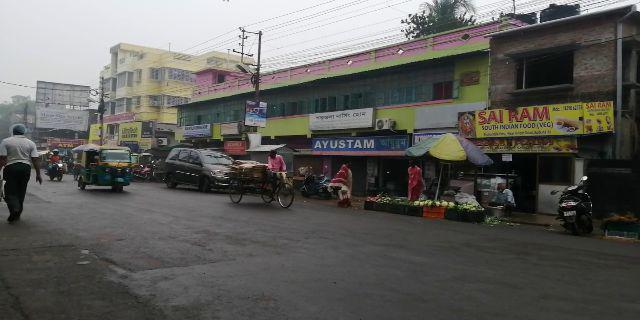Autorickshaw: (77, 147, 135, 190)
Car: (164, 149, 236, 192)
